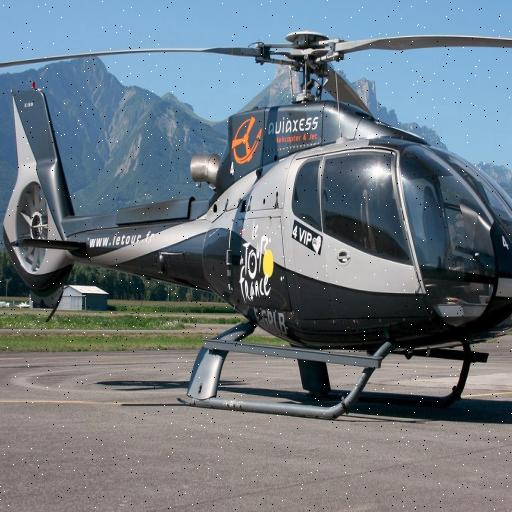helicopter: (1, 30, 512, 423)
